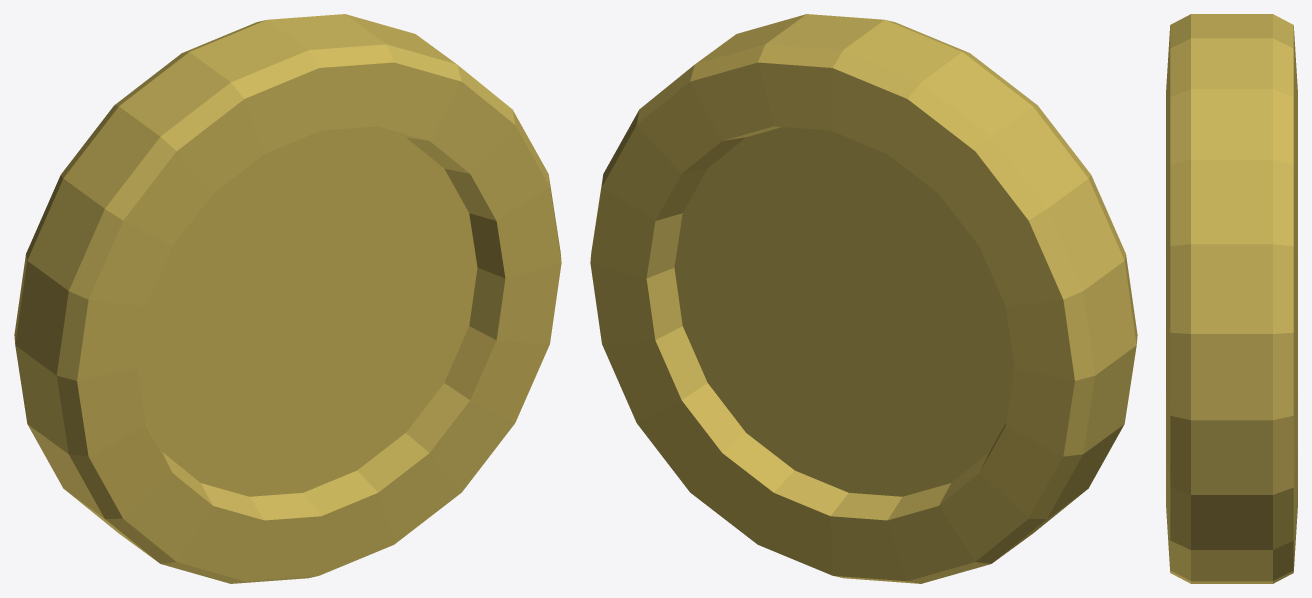
The model's file is Coin_1.fbx.
3 renders of one model, left to right at view 1: azimuth 30°, elevation 25°; view 2: azimuth 150°, elevation 25°; view 3: azimuth 270°, elevation 25°, orthographic.
Parts seen in each view (by area): view 1: Coin_1; view 2: Coin_1; view 3: Coin_1.
Part boxes in pixels (<box>): Coin_1: <box>14,14,561,583</box>; Coin_1: <box>590,14,1137,583</box>; Coin_1: <box>1166,14,1297,583</box>.
Bounding box in the file's own units: 73.67 × 73.77 × 16.91.
